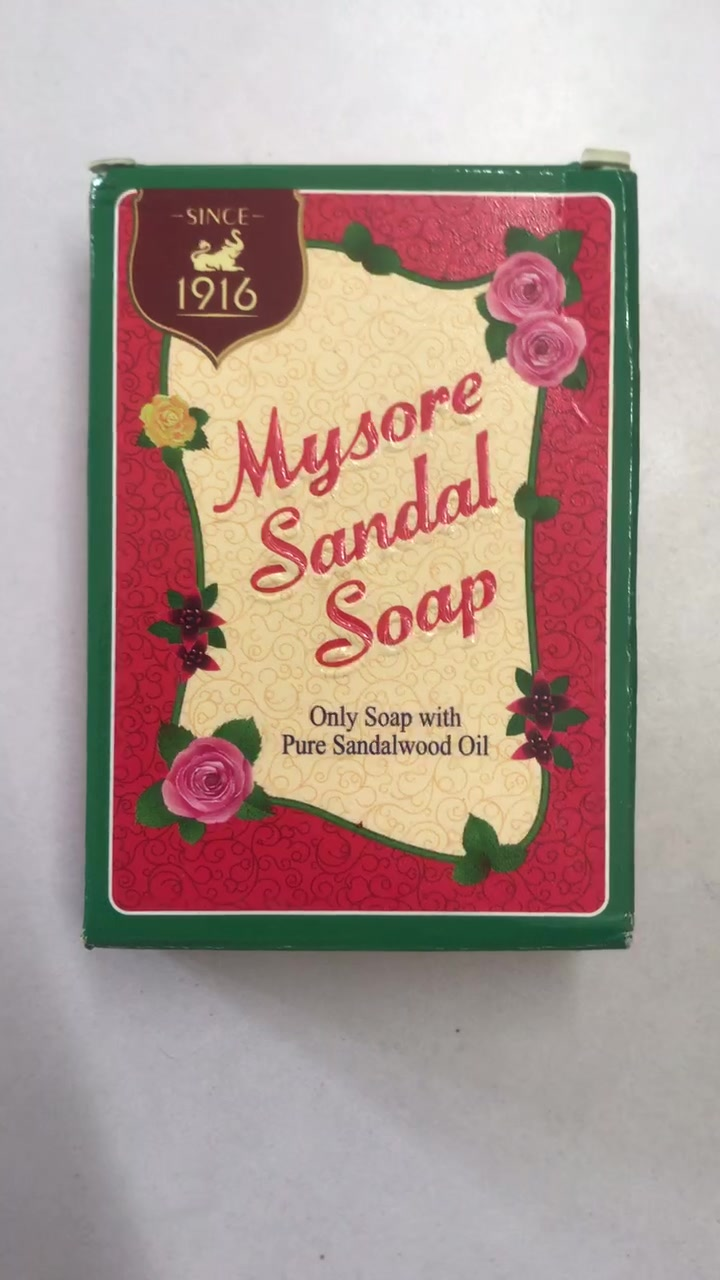mysore sandal soap: (89, 168, 633, 945)
